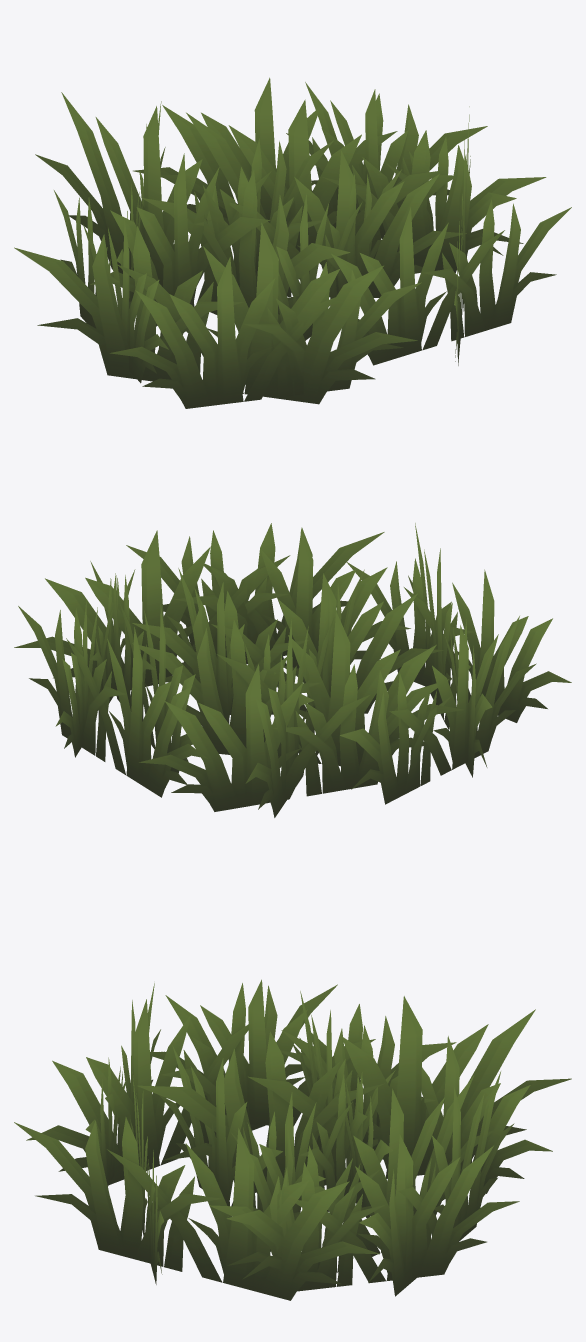
File: SM_Env_Grass_Alpine_04.fbx
3 renders of one model, top to bottom at view 1: azimuth 30°, elevation 25°; view 2: azimuth 150°, elevation 25°; view 3: azimuth 270°, elevation 25°, orthographic. The views are drawn at different scales.
Visible parts, largest first — view 1: SM_Env_Grass_Alpine_04_LOD0; view 2: SM_Env_Grass_Alpine_04_LOD0; view 3: SM_Env_Grass_Alpine_04_LOD0.
Part boxes in pixels (x1,y1,x2,y2): SM_Env_Grass_Alpine_04_LOD0: (14, 77, 571, 408); SM_Env_Grass_Alpine_04_LOD0: (14, 523, 571, 817); SM_Env_Grass_Alpine_04_LOD0: (14, 979, 571, 1300).
Size of what is drawn, in the model's own units: 172 by 77.12 by 173.
